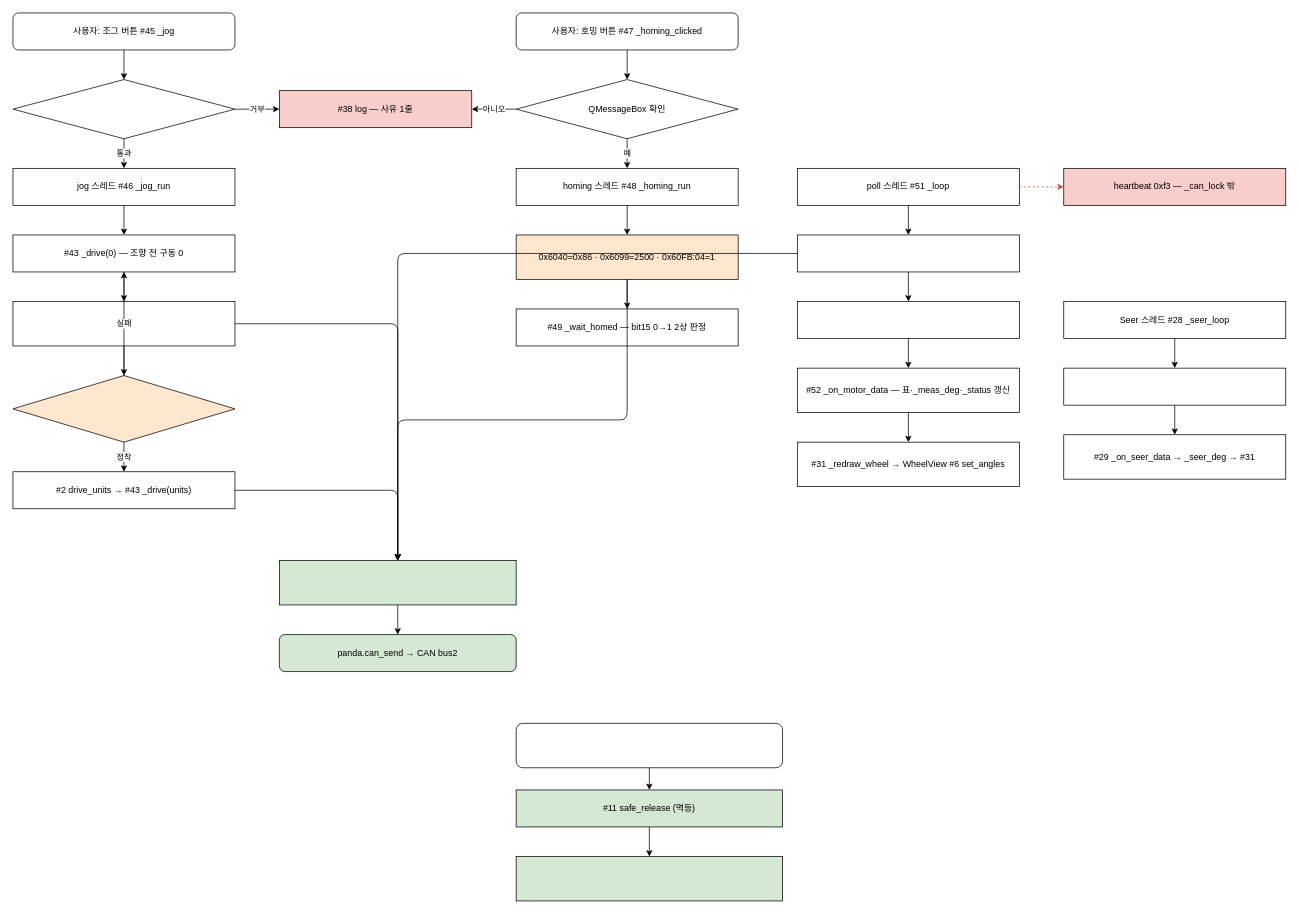
Some shapes in this 1299 by 914 pixel diagram are drawn without their labels. Each missing label, with the box of its shape:
#41 _on_take(False) → auth·intercept 해제 → USB close: (515, 856, 783, 901)
#42 _sdo_write — _can_lock 직렬화: (279, 560, 516, 605)
#44 _steer_to → #18 _steer_axis → #1 steer_counts: (12, 301, 235, 346)
#50 _wait_settle — _meas_deg 로 정착 판정: (12, 375, 235, 442)
0x6064·0x606C·0x6078·0x6041 요청: (797, 234, 1019, 272)
1040 모터 · 1050 알람: (1063, 367, 1286, 405)
can_recv 파싱 → motor_data 시그널: (797, 301, 1019, 339)
제어권·호밍·조그중 검사: (12, 79, 235, 139)
종료 4경로: closeEvent · SIGINT/SIGTERM · exec_ 반환 · atexit: (515, 723, 783, 768)
